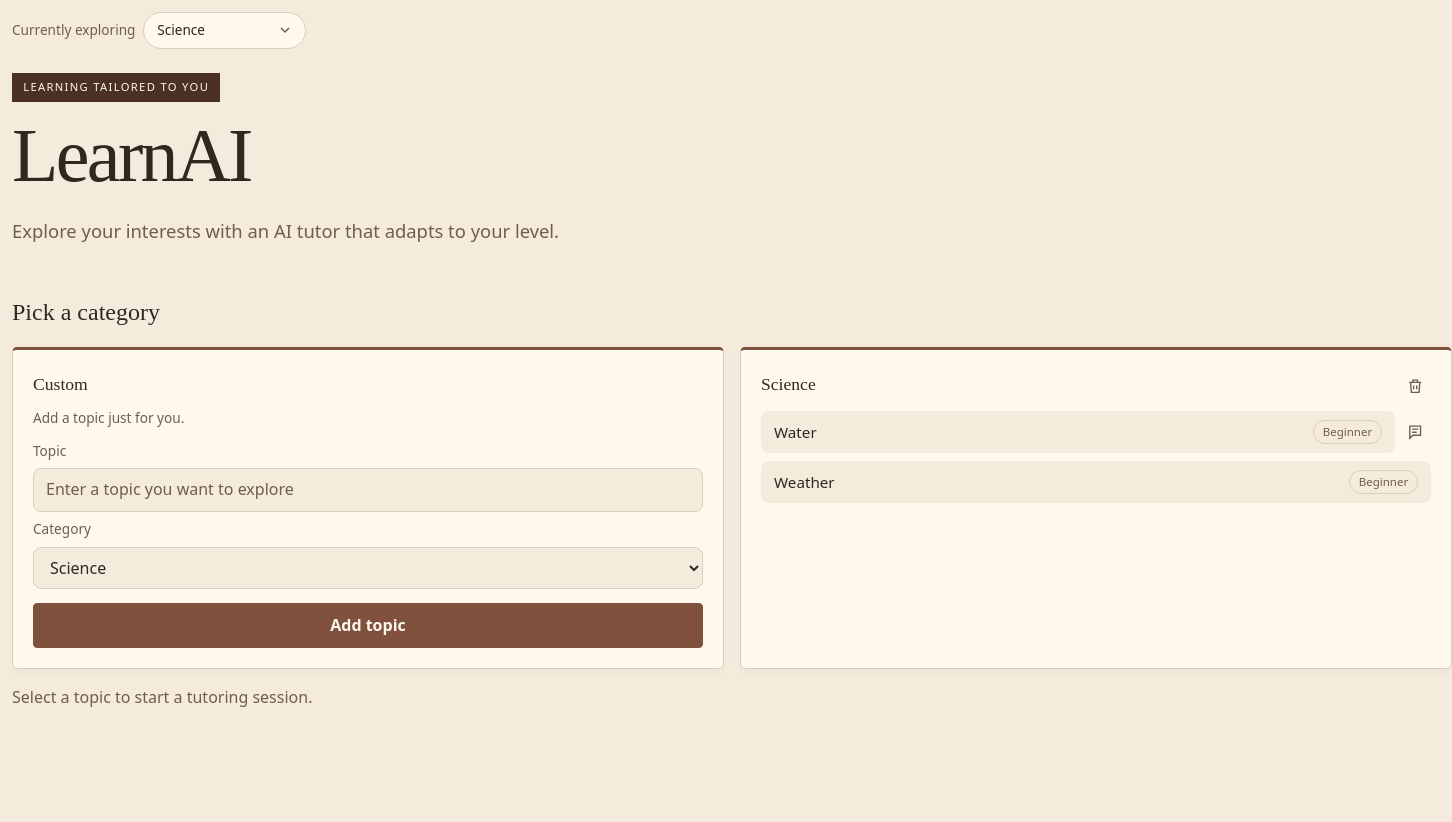
it: attempts a keepalive save on browser page exit
This screenshot has width=1452, height=822.
Click the button "Water Beginner": {"x": 795, "y": 432} 761,411 -> 1395,453
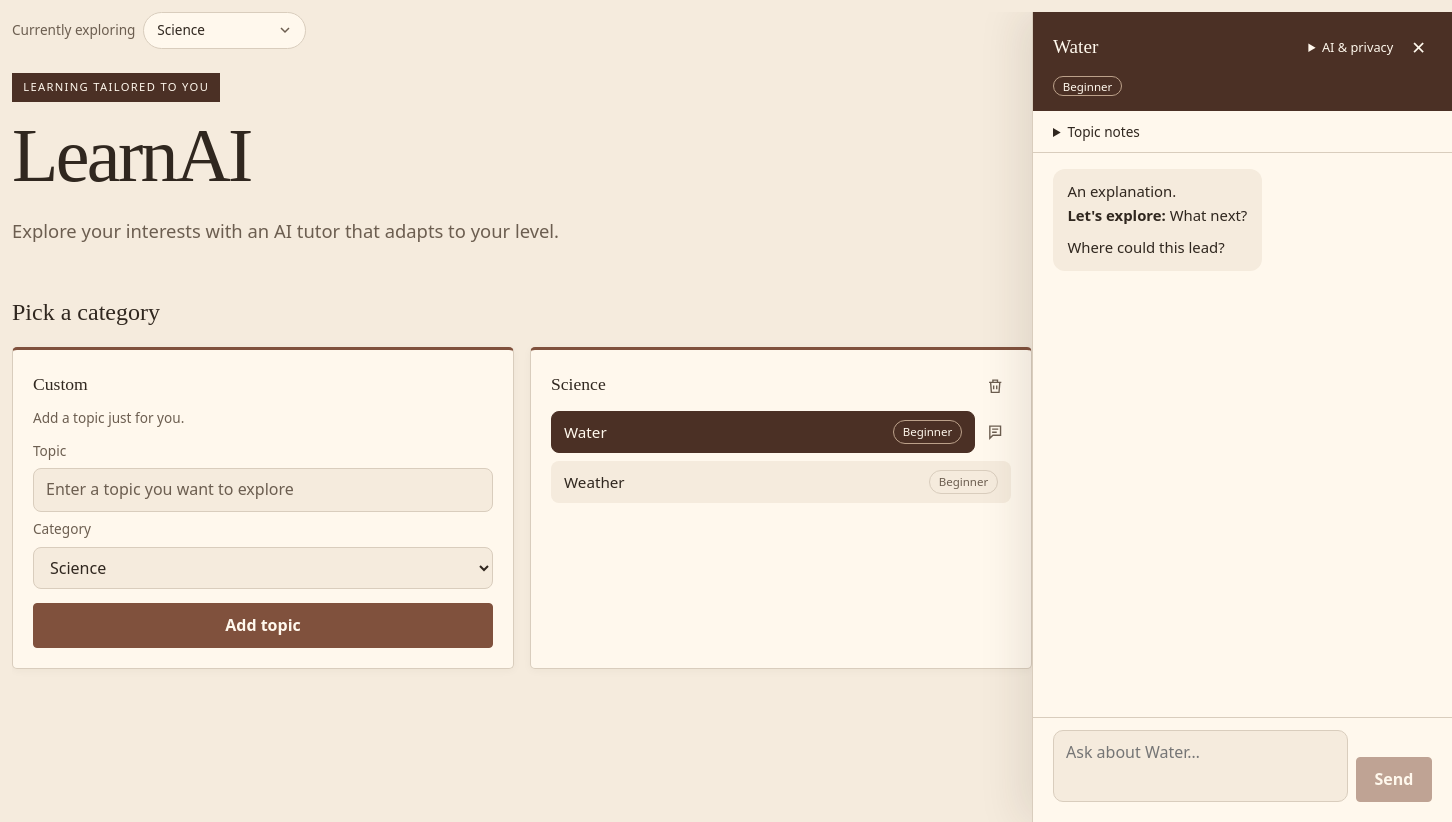
Result: the text "An explanation." is shown at 1067,181 -> 1176,201
Click the heading "Topic notes": {"x": 1104, "y": 131} 1067,122 -> 1140,140
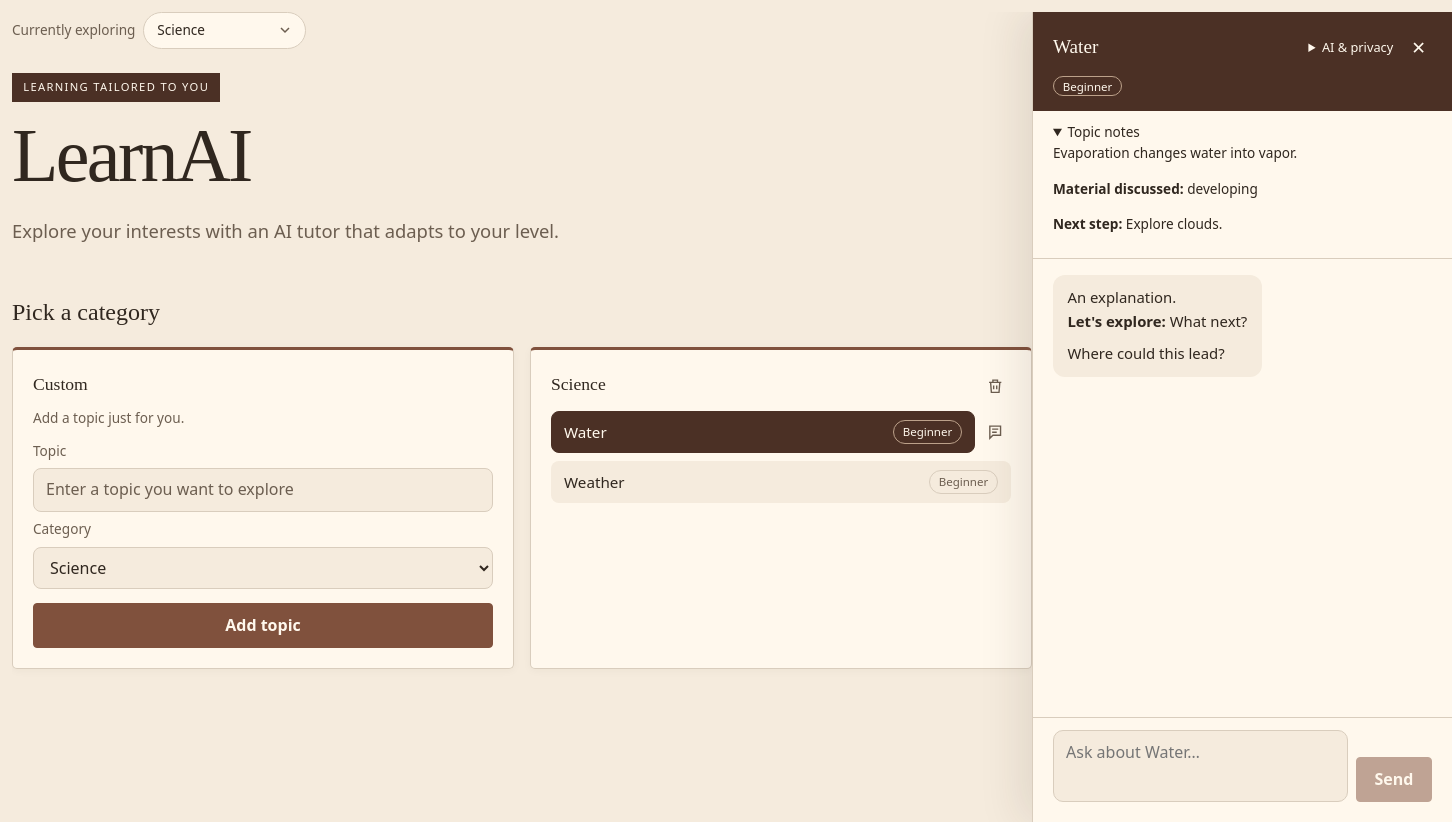
Result: the text "Evaporation changes water into vapor." is shown at 1053,143 -> 1297,162
In the text box with placeholder "Ask about Water…": {"x": 1200, "y": 766} 1053,730 -> 1348,802, type "How does evaporation work?"
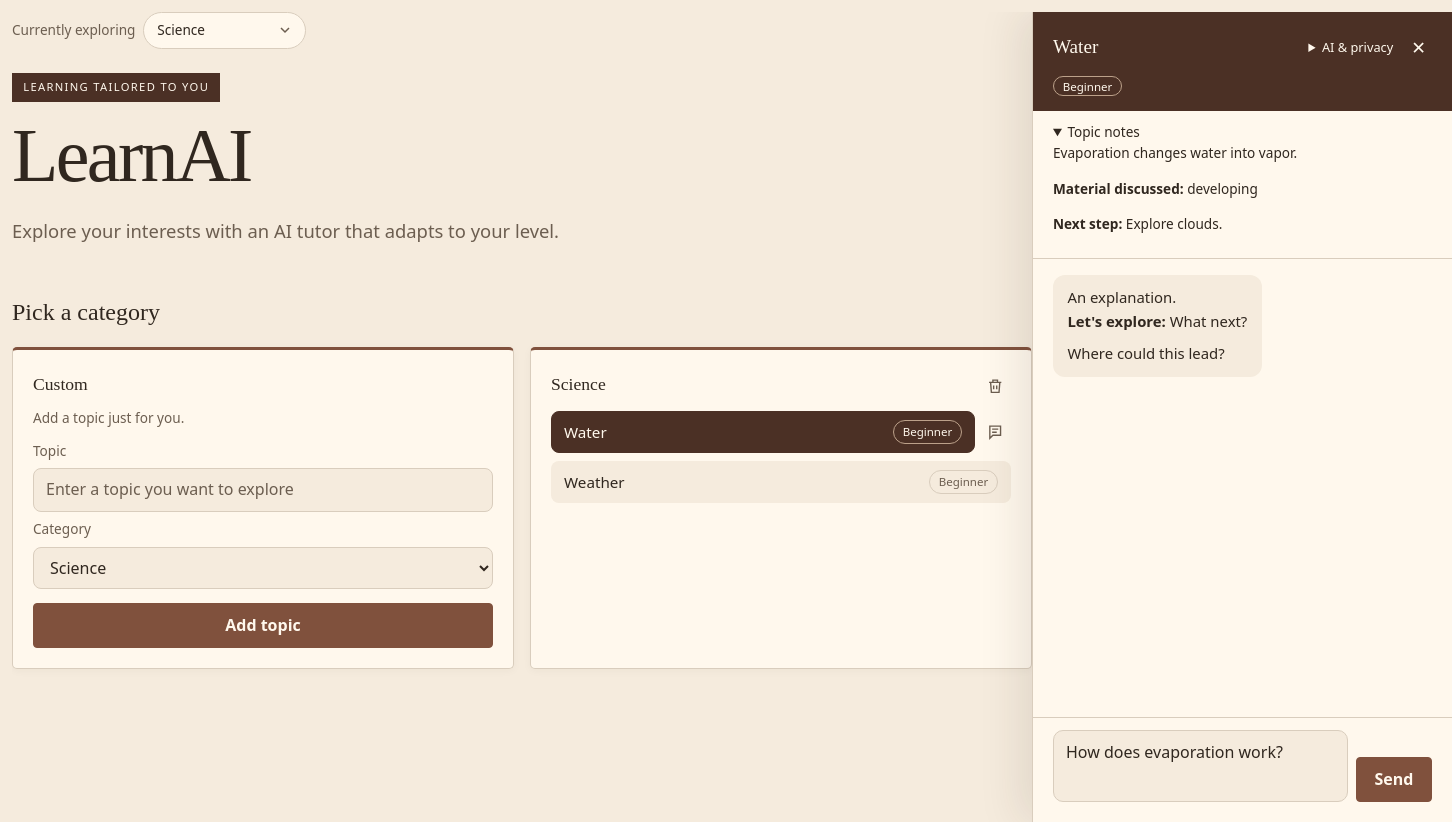
Click the button "Send": {"x": 1394, "y": 779} 1356,757 -> 1432,802
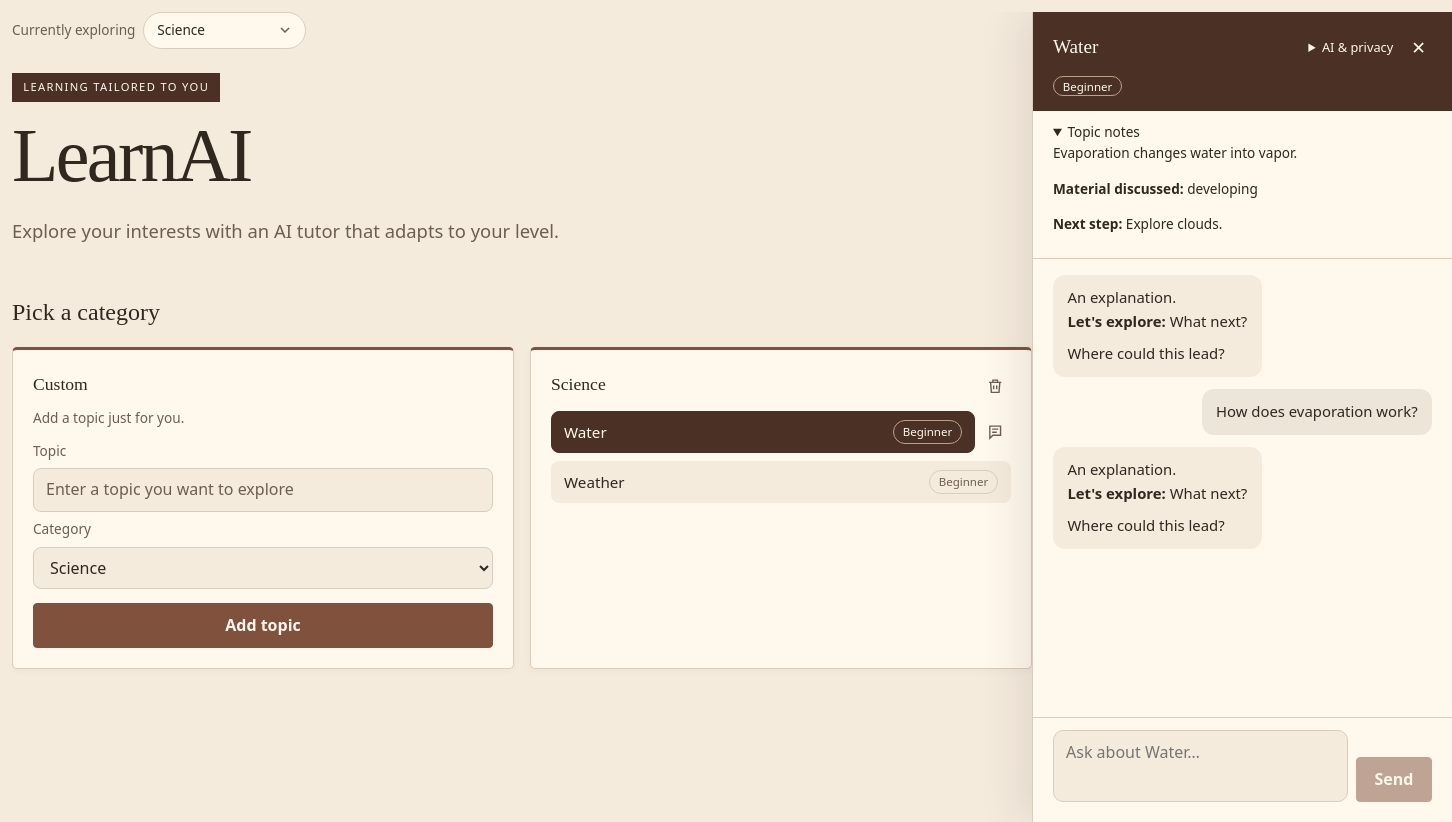
Result: the text "An explanation." is shown 2 times at 1067,287 -> 1176,307; 1067,459 -> 1176,479
